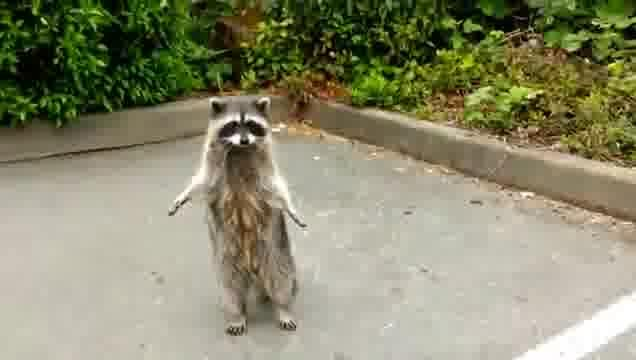raccoon: (167, 95, 309, 336)
